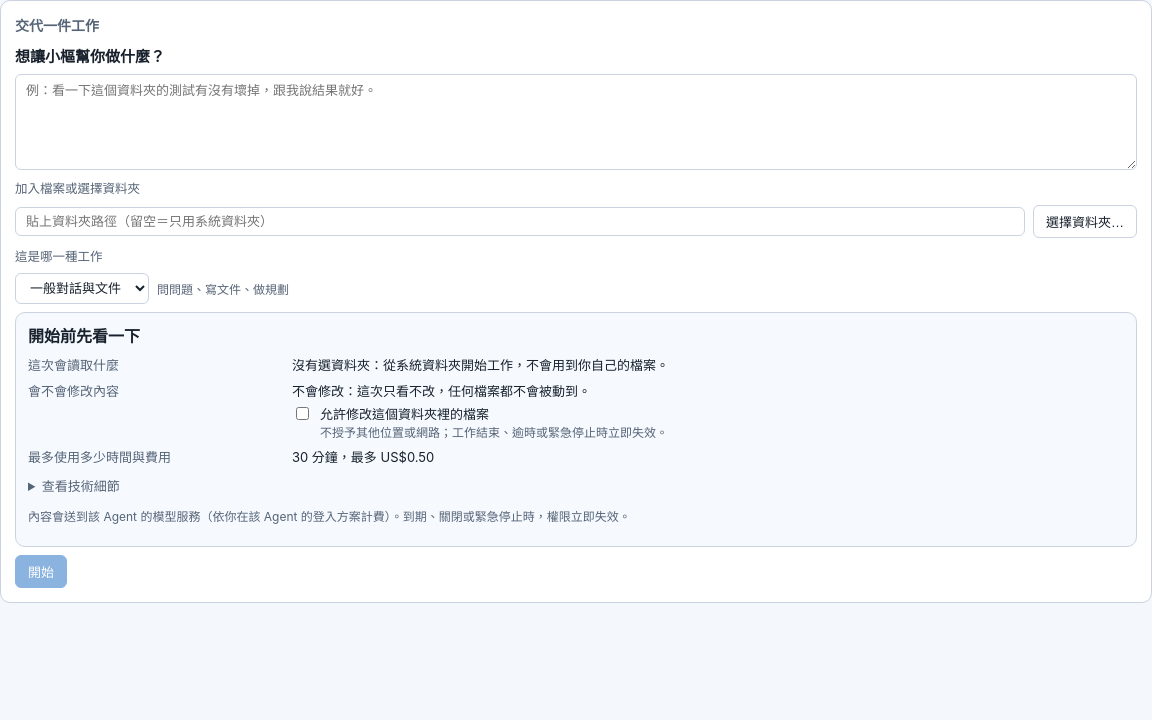
Test: 桌面版原生資料夾選擇器 › 選好資料夾：以 directory＝true 呼叫 host 對話框，路徑填回輸入框
Click the button "選擇資料夾…".
click(1085, 222)  # box [1033,205,1137,238]
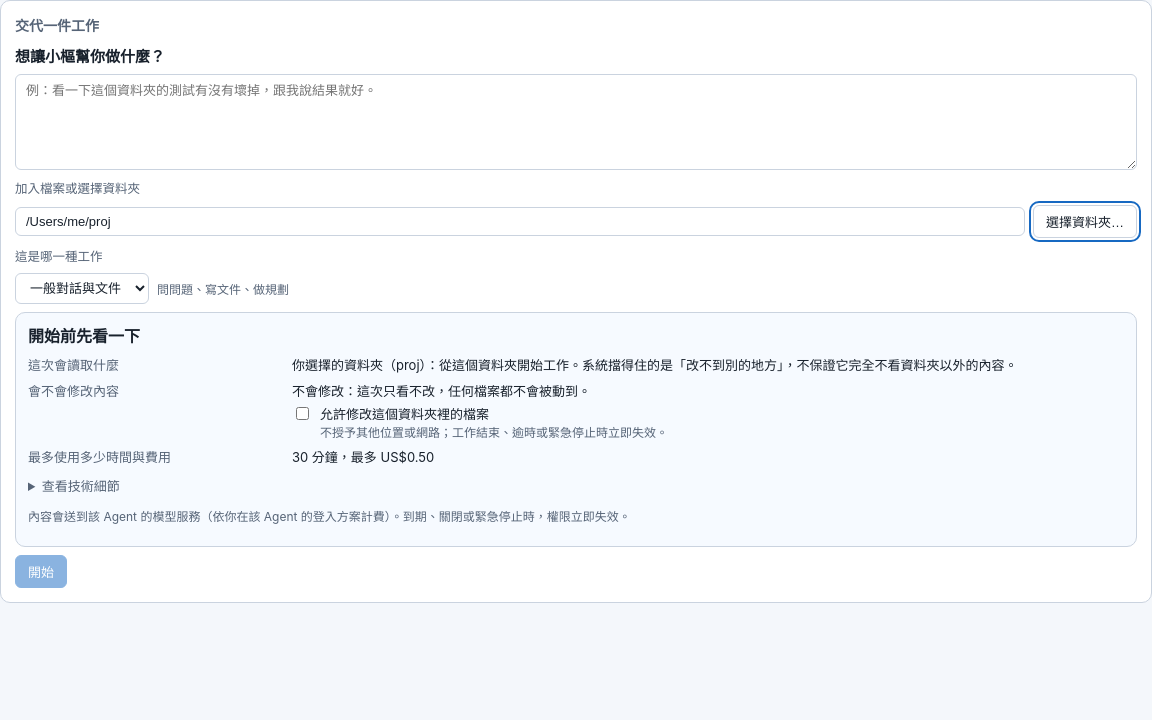
expect the field labelled "加入檔案或選擇資料夾" holds "/Users/me/proj": met, box [15,207,1025,236]
